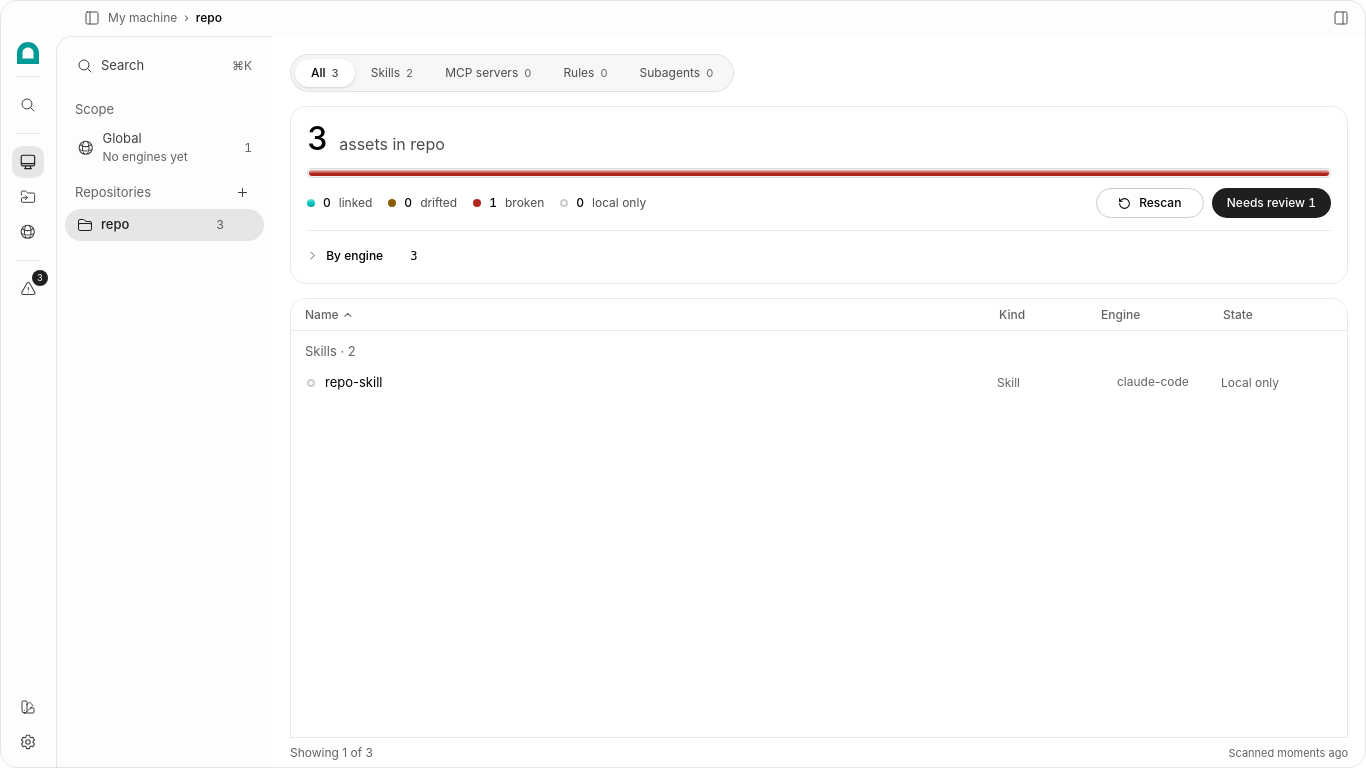
it: each pane's pill gets only the issues that belong to it › the project pane sees its own issue and neither of the global ones
Click the text "Needs review 1" at [1271, 203], box [1227,194,1316,212]
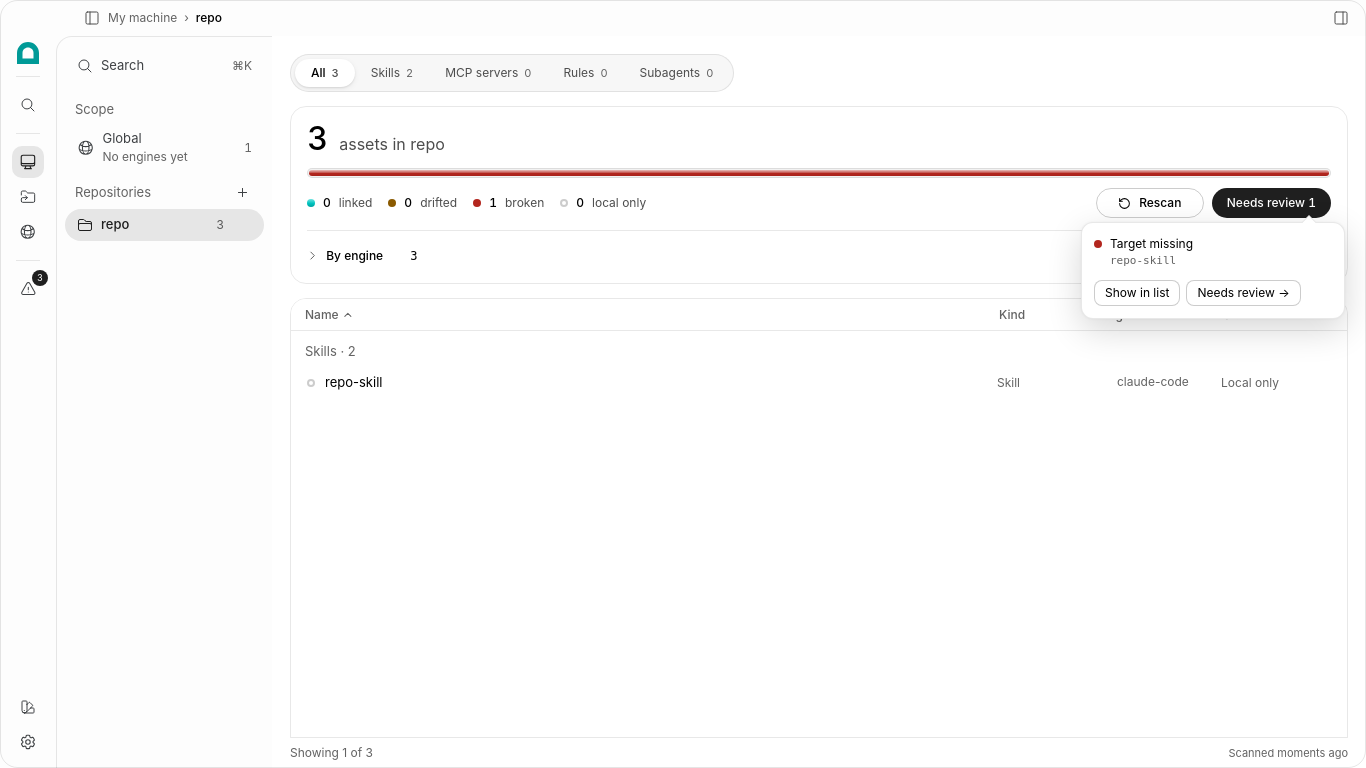
Result: the list item with test id "finding-popover-line" shows "repo-skill" at [1110,254,1176,267]
